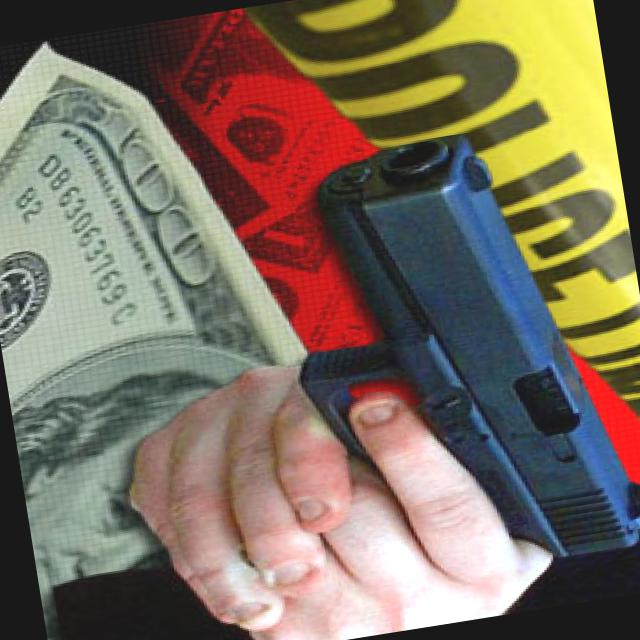handgun: (259, 109, 639, 601)
